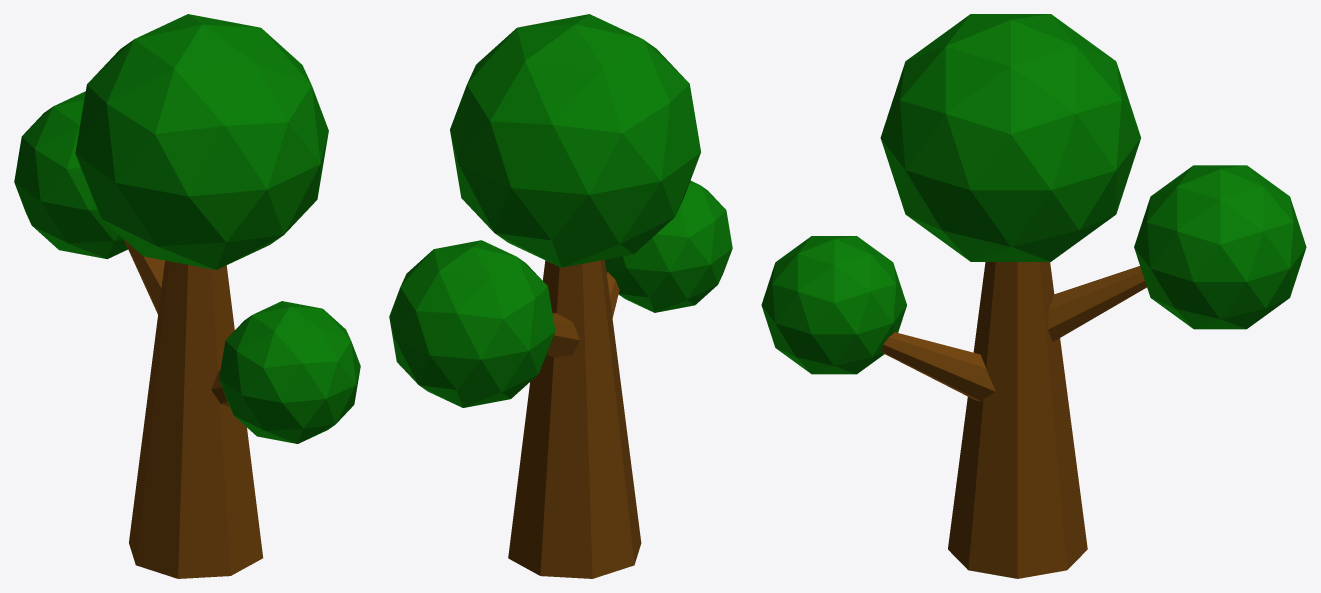
File: Arboles.fbx
The picture shows the model from 3 angles, left to right: view 1: azimuth 30°, elevation 25°; view 2: azimuth 150°, elevation 25°; view 3: azimuth 270°, elevation 25°; orthographic projection.
Parts seen in each view (by area): view 1: Icosphere.001, Cylinder.002; view 2: Icosphere.001, Cylinder.002; view 3: Icosphere.001, Cylinder.002.
Part boxes in pixels (left/top/right/bottom): Icosphere.001: left=14, top=14, right=360, bottom=443; Cylinder.002: left=123, top=239, right=263, bottom=578; Icosphere.001: left=389, top=14, right=732, bottom=407; Cylinder.002: left=508, top=259, right=641, bottom=578; Icosphere.001: left=761, top=14, right=1306, bottom=374; Cylinder.002: left=881, top=262, right=1146, bottom=578.
Size of the model in its own units: 314 by 742 by 690.
